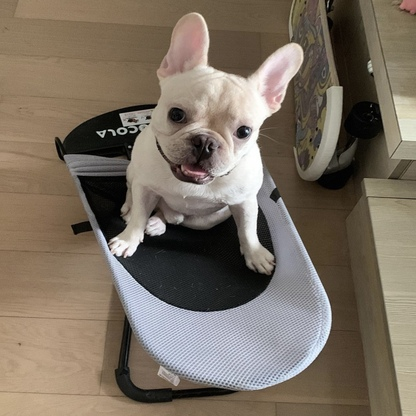bulldog: (105, 10, 308, 277)
